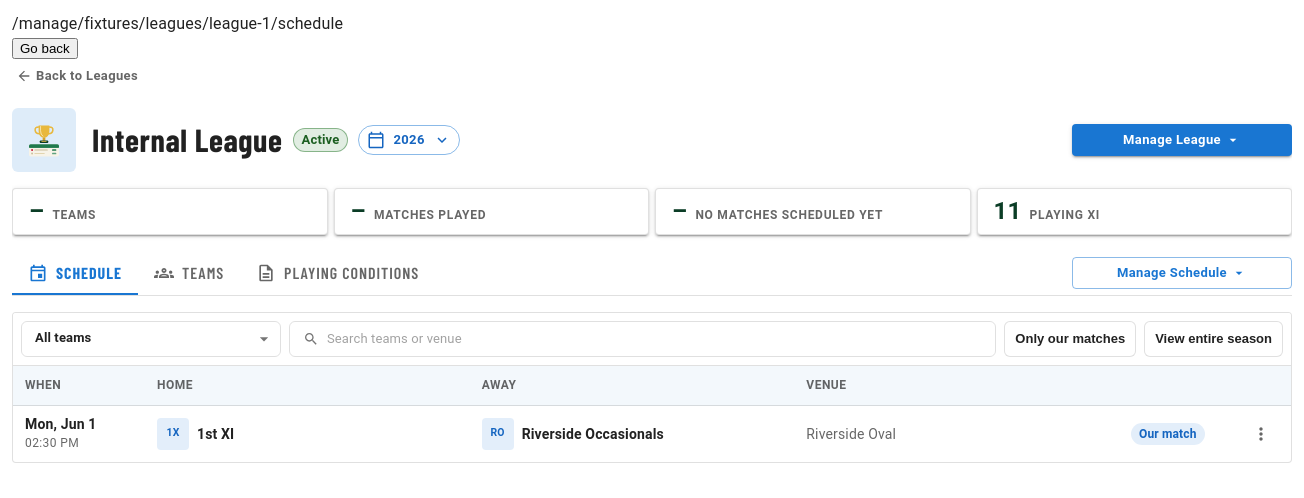
it: LeagueScheduleView › keeps the fused card for No matching fixtures: the message replaces the rows and the search keeps focus
Expected: the element with test id "fixtures-fused-card" is shown, [12,312,1292,463]
Type "zzz" into the field labelled "Search".
click(662, 339); type("zzz")  # box [327,321,996,357]
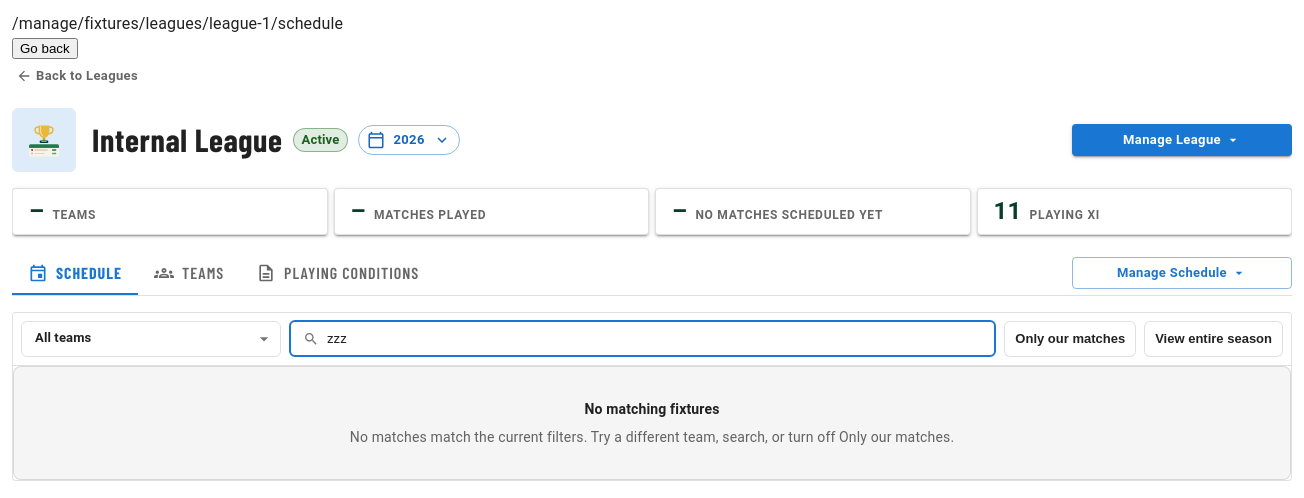
Expected: the text "No matching fixtures" is shown, [584,399,720,419]
